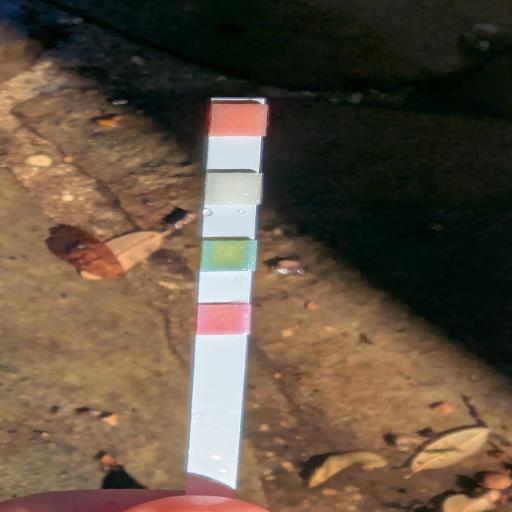strip: (184, 96, 269, 498)
